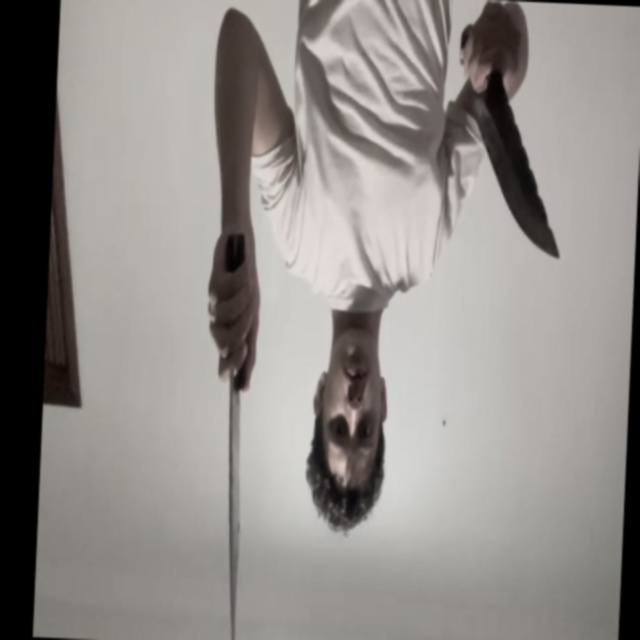Sharp-Object: (466, 96, 566, 259), (214, 372, 251, 640)
